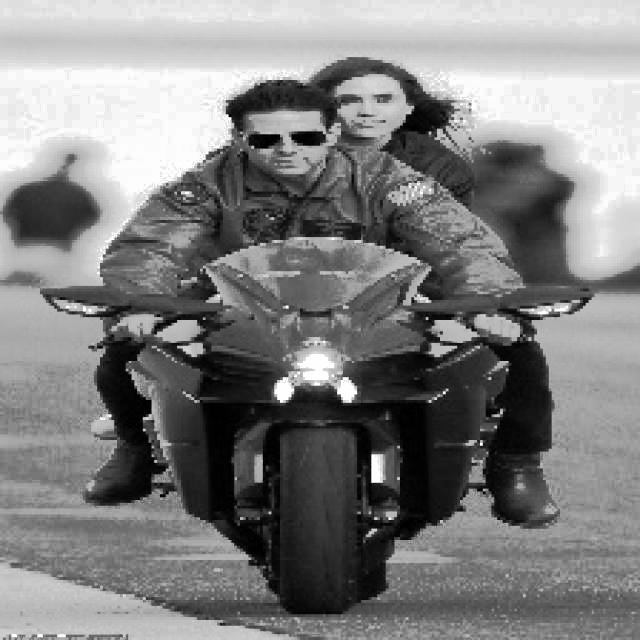Bike: (53, 264, 597, 610)
